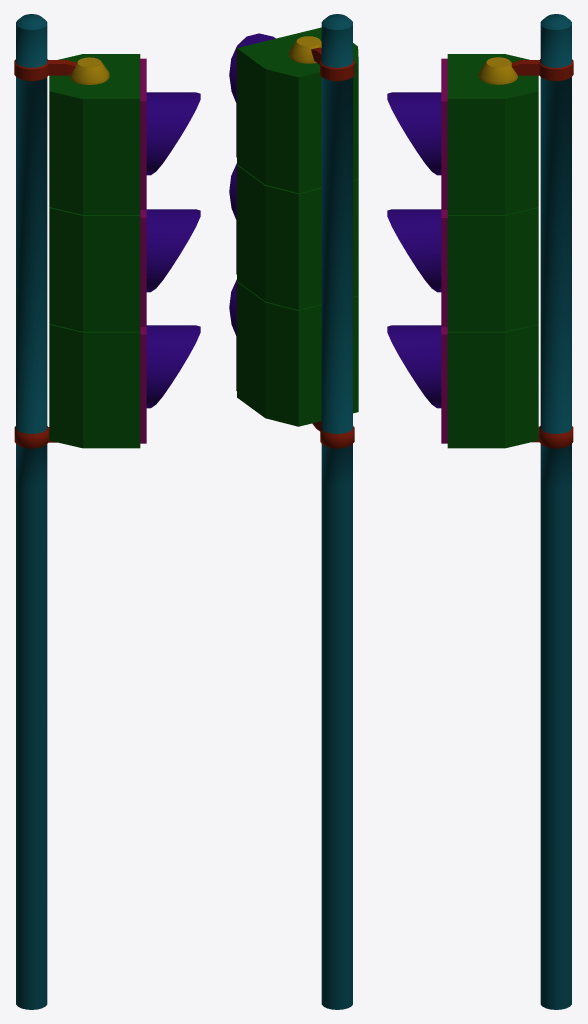
File: Traffic Light （LowPoly_UVW).FBX
3 views of the same model, side by side, from view 1: azimuth 90°, elevation 25°; view 2: azimuth 210°, elevation 25°; view 3: azimuth 270°, elevation 25° (orthographic).
Visible parts, largest first — view 1: LowPoly; view 2: LowPoly; view 3: LowPoly.
Boxes of the visible parts, box(x1,y1,x2,y2) form: LowPoly: box(14, 14, 200, 1009); LowPoly: box(229, 14, 358, 1009); LowPoly: box(387, 14, 573, 1009).
Size of the model in its own units: 0.3351 by 3.4 by 0.5831.
